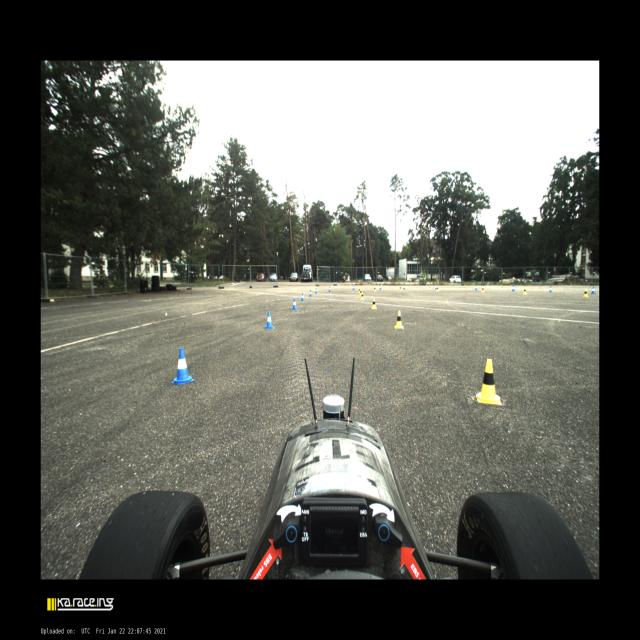blue_cone: (172, 348, 194, 386), (264, 312, 275, 328), (292, 298, 297, 310), (300, 292, 305, 300), (591, 286, 595, 294), (548, 286, 552, 292), (512, 285, 516, 291), (309, 290, 312, 297), (474, 285, 478, 290), (379, 284, 382, 290), (328, 287, 331, 292), (352, 285, 355, 290), (315, 288, 317, 294), (403, 285, 405, 290), (435, 285, 437, 289)
yellow_cone: (476, 359, 502, 406), (394, 310, 404, 329), (371, 298, 377, 309), (583, 289, 588, 297), (360, 292, 364, 300), (523, 287, 527, 295), (373, 286, 376, 292), (399, 285, 402, 291), (436, 286, 439, 292), (359, 290, 362, 296), (482, 286, 484, 293), (358, 288, 360, 293)
